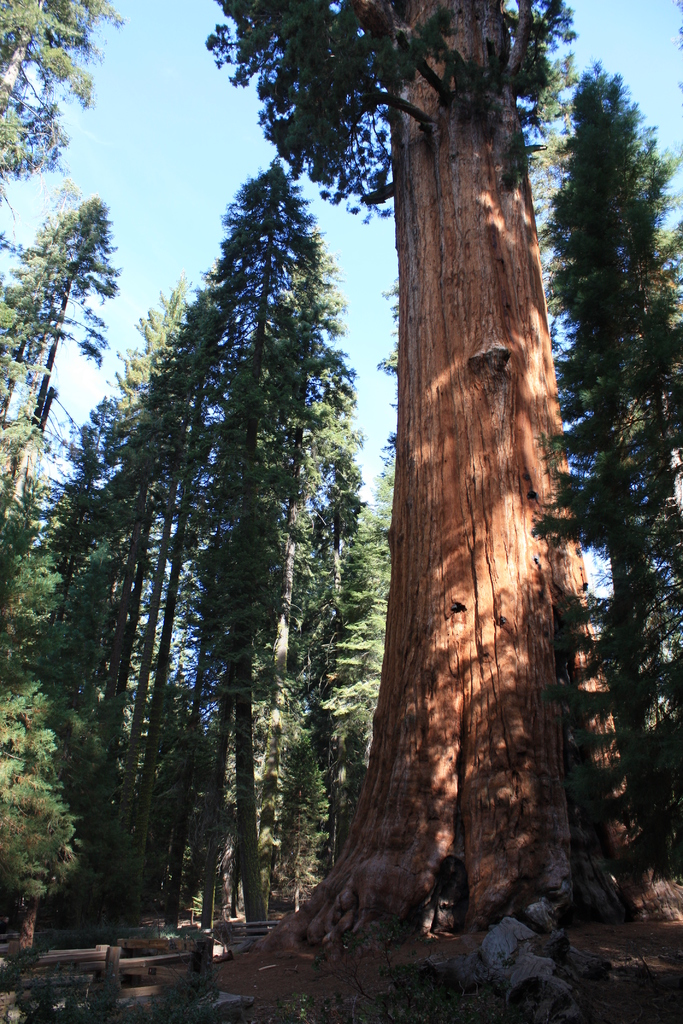Tree: (0, 1, 682, 1023)
